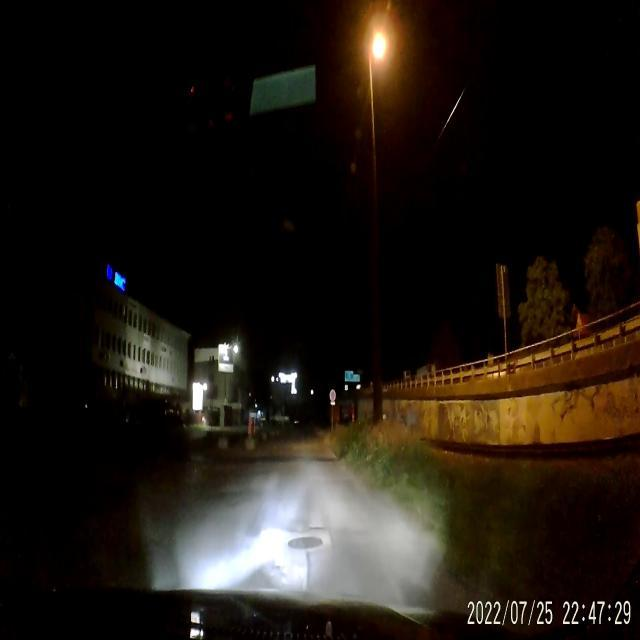Manhole: (284, 536, 326, 552)
